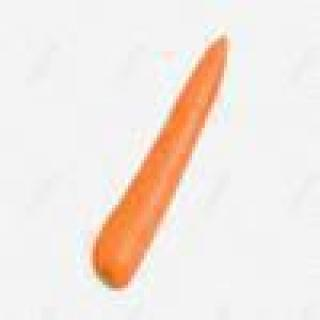Wortel: (52, 27, 254, 292)
